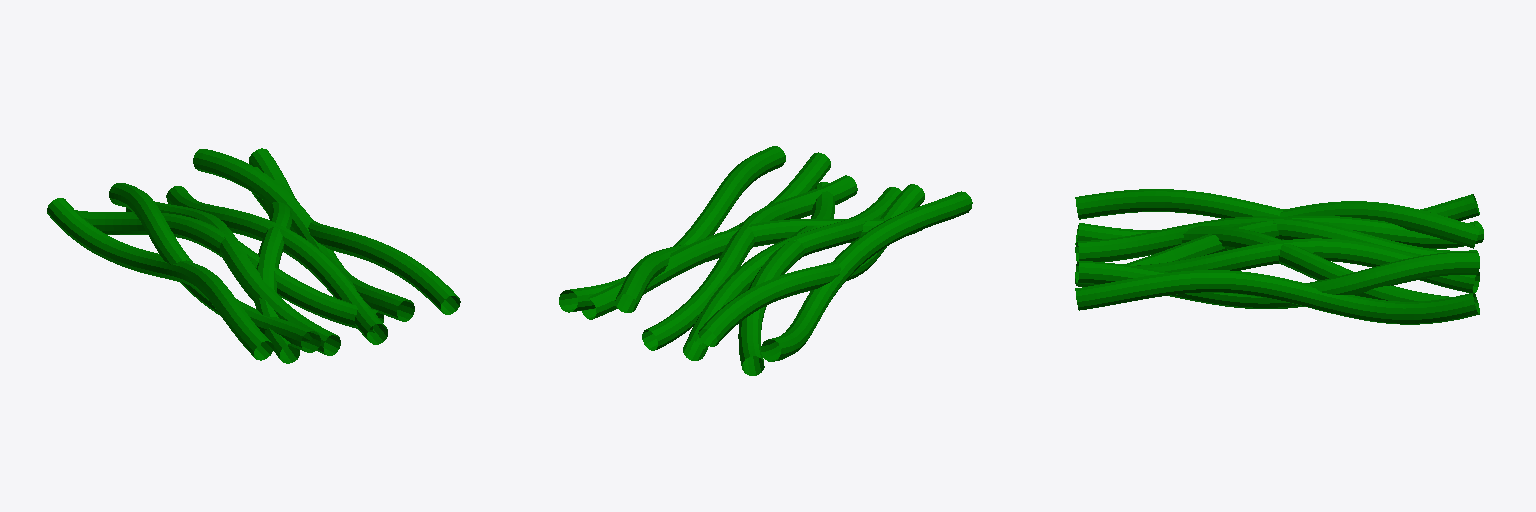
The model's file is Brown.obj.
The picture shows the model from 3 angles: view 1: azimuth 30°, elevation 25°; view 2: azimuth 150°, elevation 25°; view 3: azimuth 270°, elevation 25°; orthographic projection.
Parts seen in each view (by area): view 1: Object003; view 2: Object003; view 3: Object003.
Boxes of the visible parts, box(x1,y1,x2,y2) form: Object003: box(47, 148, 460, 363); Object003: box(559, 146, 972, 375); Object003: box(1075, 189, 1483, 324).
Bounding box in the file's own units: 25.51 × 6.03 × 40.66.